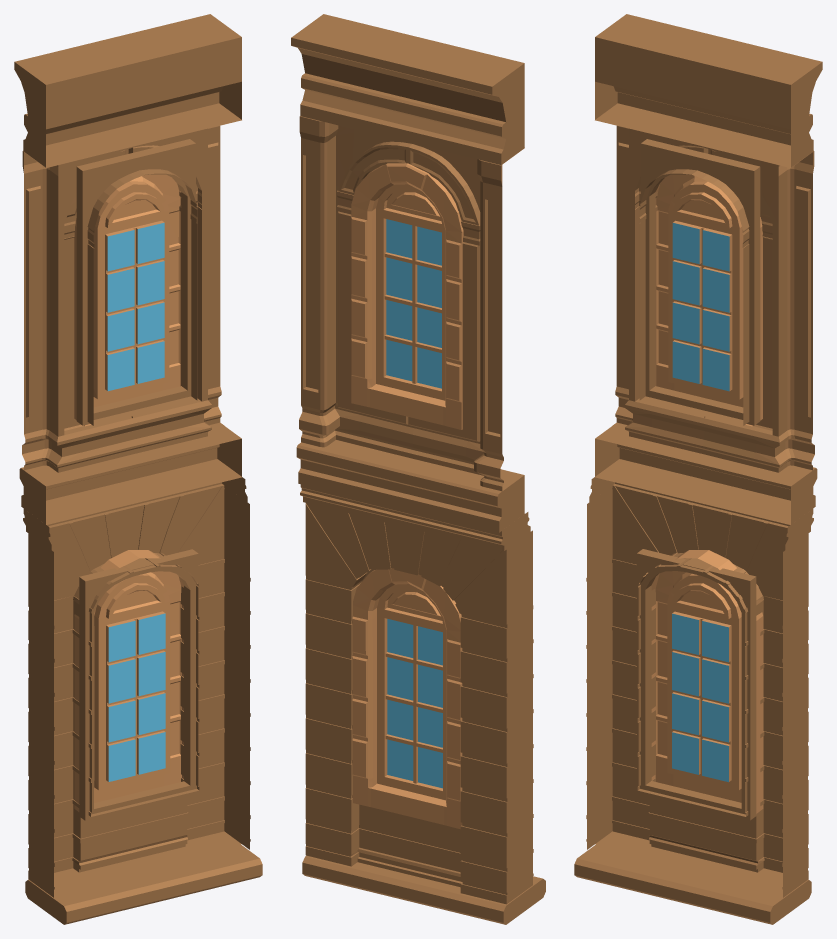
3 renders of one model, left to right at view 1: azimuth 30°, elevation 25°; view 2: azimuth 150°, elevation 25°; view 3: azimuth 330°, elevation 25°, orthographic. The views are drawn at different scales.
Parts seen in each view (by area): view 1: F_Med; view 2: F_Med; view 3: F_Med.
Boxes of the visible parts, <box> form: F_Med: <box>14,14,262,924</box>; F_Med: <box>291,14,545,924</box>; F_Med: <box>574,14,822,924</box>.
Bounding box in the file's own units: 3.23 × 12.98 × 1.49.
